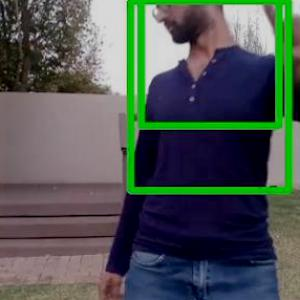takeoff-hand: (254, 0, 299, 89)
